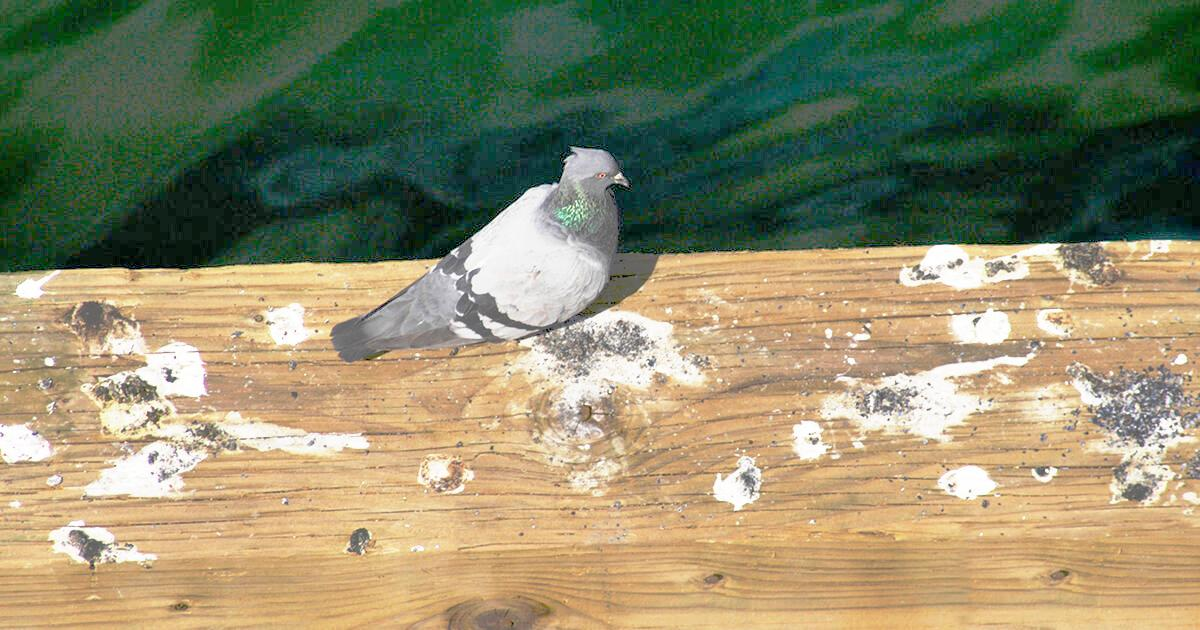Bird Poop: (499, 310, 705, 490), (84, 412, 369, 497), (1067, 363, 1199, 504), (821, 355, 1034, 438), (82, 343, 206, 435), (899, 243, 1120, 288), (49, 526, 156, 570), (65, 301, 145, 355), (714, 456, 761, 510), (417, 455, 474, 493), (950, 308, 1010, 343), (263, 303, 310, 345), (938, 465, 996, 499), (0, 424, 50, 461), (793, 420, 828, 459), (14, 271, 59, 297), (1036, 309, 1071, 338), (345, 528, 373, 555), (1032, 466, 1058, 482), (1150, 240, 1169, 253)
